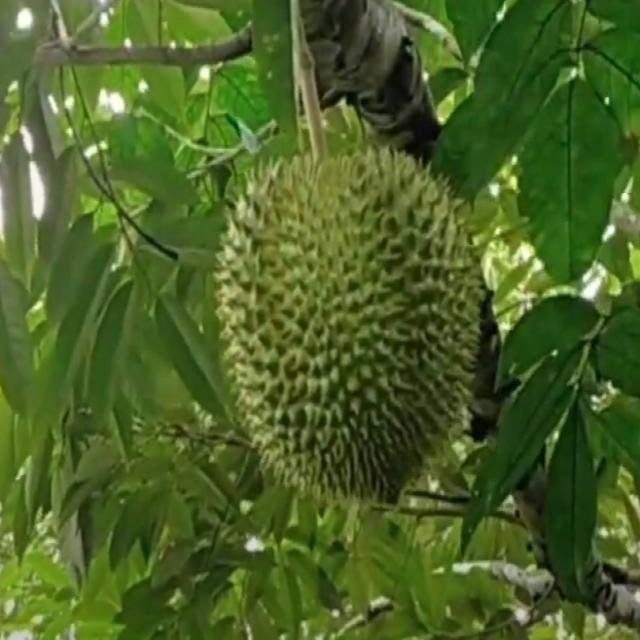immature: (212, 140, 482, 509)
